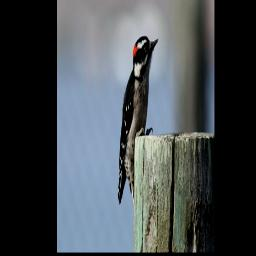Woodpecker: (117, 34, 159, 203)
